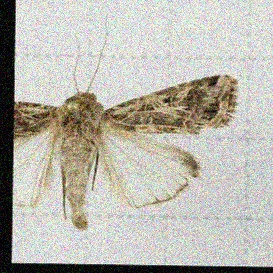Spodoptera litura: (13, 14, 238, 231)
